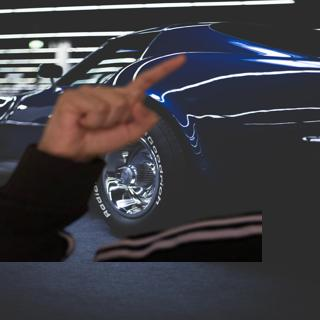WHY: (37, 49, 197, 161)
